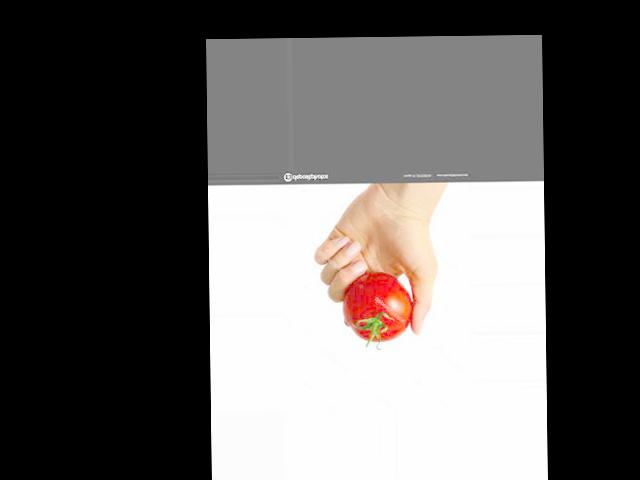tomato: (343, 270, 412, 342)
